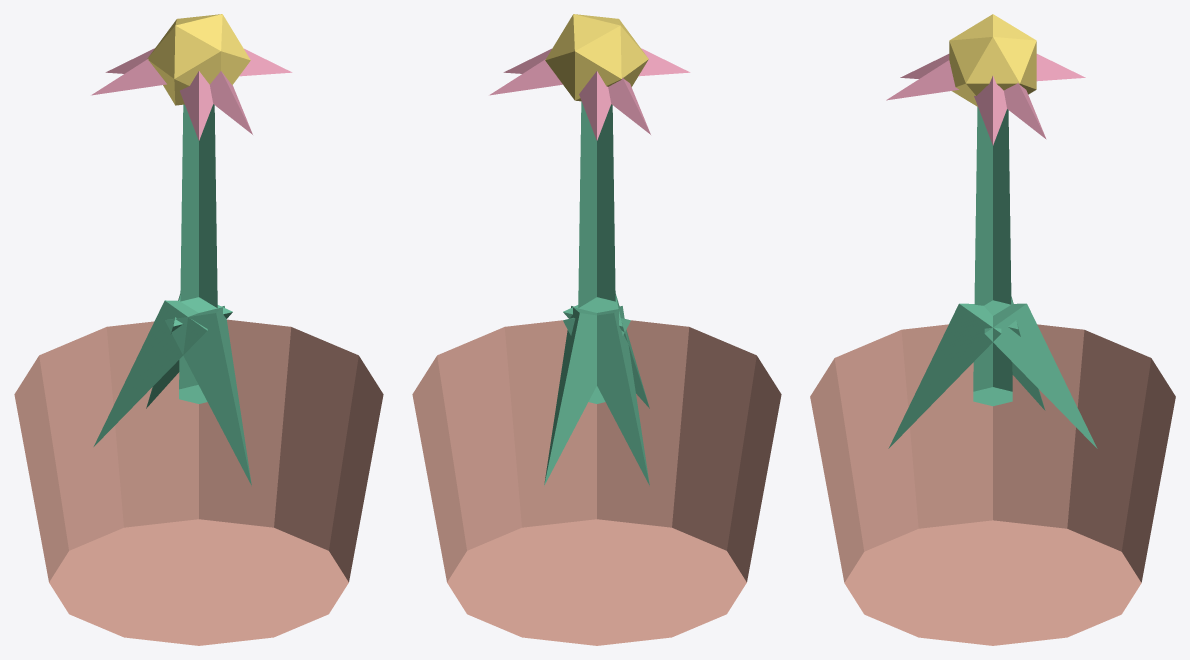
Rendered from plant-flor.glb.
3 views of the same model, side by side, from view 1: azimuth 30°, elevation 25°; view 2: azimuth 150°, elevation 25°; view 3: azimuth 270°, elevation 25° (orthographic).
Visible parts, largest first — view 1: Vaso, Caule, Miolo, Petalas; view 2: Vaso, Caule, Miolo, Petalas; view 3: Vaso, Caule, Miolo, Petalas.
Part boxes in pixels (box(x1,y1,x2,y2)): Vaso: box(14, 319, 383, 645); Caule: box(93, 104, 251, 485); Miolo: box(147, 14, 250, 105); Petalas: box(91, 48, 292, 140); Vaso: box(412, 320, 781, 645); Caule: box(544, 101, 649, 485); Miolo: box(545, 14, 648, 104); Petalas: box(489, 48, 690, 140); Vaso: box(810, 324, 1175, 645); Caule: box(888, 107, 1097, 448); Miolo: box(949, 14, 1036, 106); Petalas: box(886, 54, 1085, 145).
Size of the model in its own units: 0.32 by 0.5383 by 0.32.
